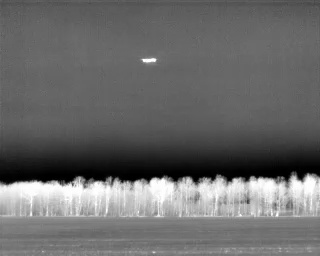DRONE: (138, 53, 161, 69)
